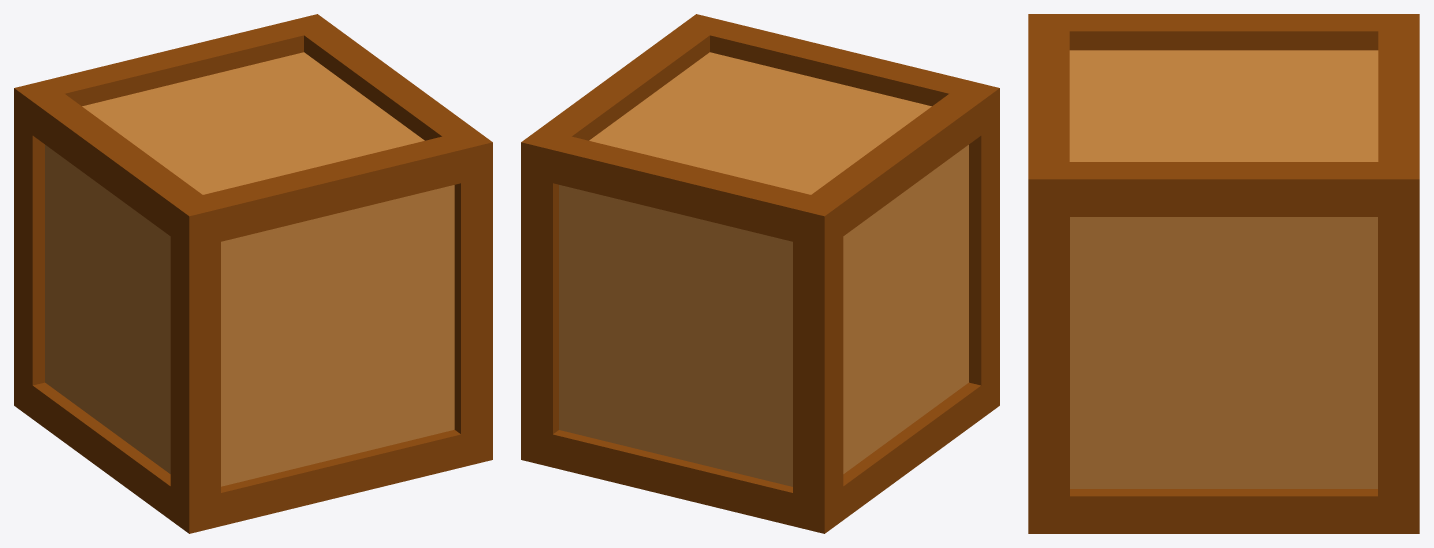
3 renders of one model, left to right at view 1: azimuth 30°, elevation 25°; view 2: azimuth 150°, elevation 25°; view 3: azimuth 270°, elevation 25°, orthographic. The views are drawn at different scales.
Visible parts, largest first — view 1: Box.002; view 2: Box.002; view 3: Box.002.
Part boxes in pixels (x1,y1,x2,y2): Box.002: [14, 14, 492, 533]; Box.002: [521, 14, 999, 533]; Box.002: [1028, 14, 1419, 533].
Bounding box in the file's own units: 100 × 100 × 100.
